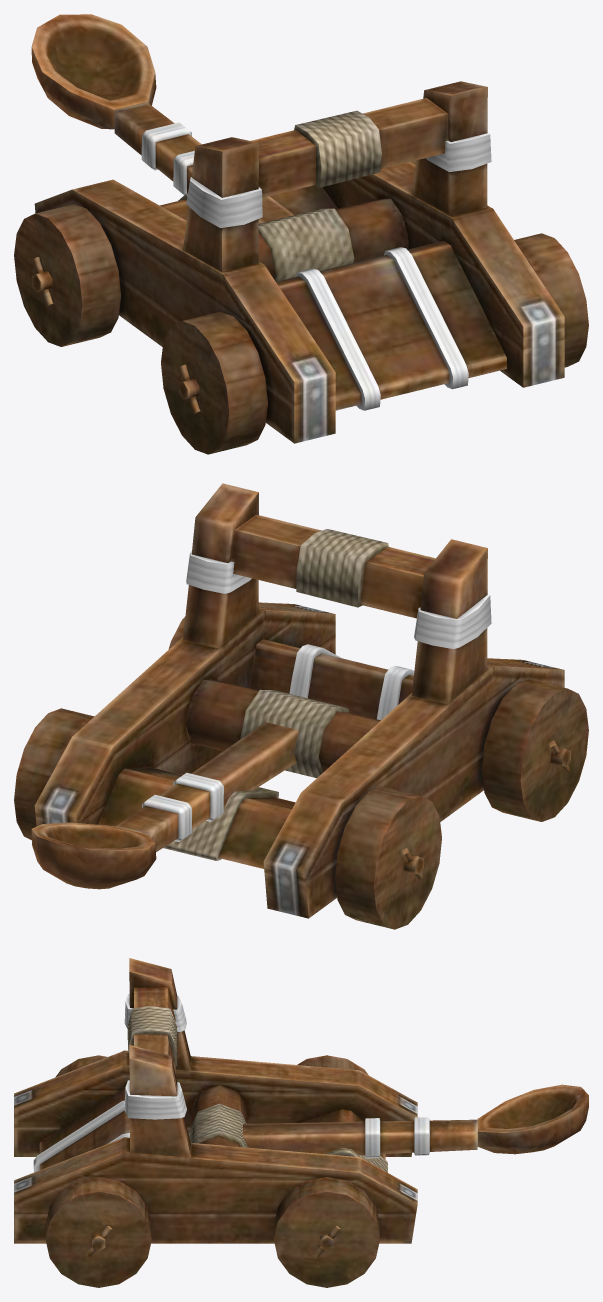
The model's file is 241-catapult.glb.
3 renders of one model, top to bottom at view 1: azimuth 30°, elevation 25°; view 2: azimuth 150°, elevation 25°; view 3: azimuth 270°, elevation 25°, orthographic. The views are drawn at different scales.
Size of the model in its own units: 2.79 by 1.89 by 4.66.
Materials: 1 (1 with a texture image).
